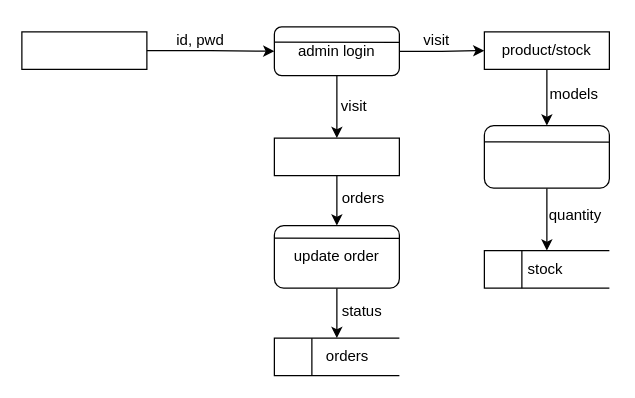
This 635x398 diagram has some shape labels left out. Here are the shapes that lost their labels. From the top down, the centre of each, then its label:
At point 84,50: "admin".
At point 336,156: "order history".
At point 546,156: "update product stock".
